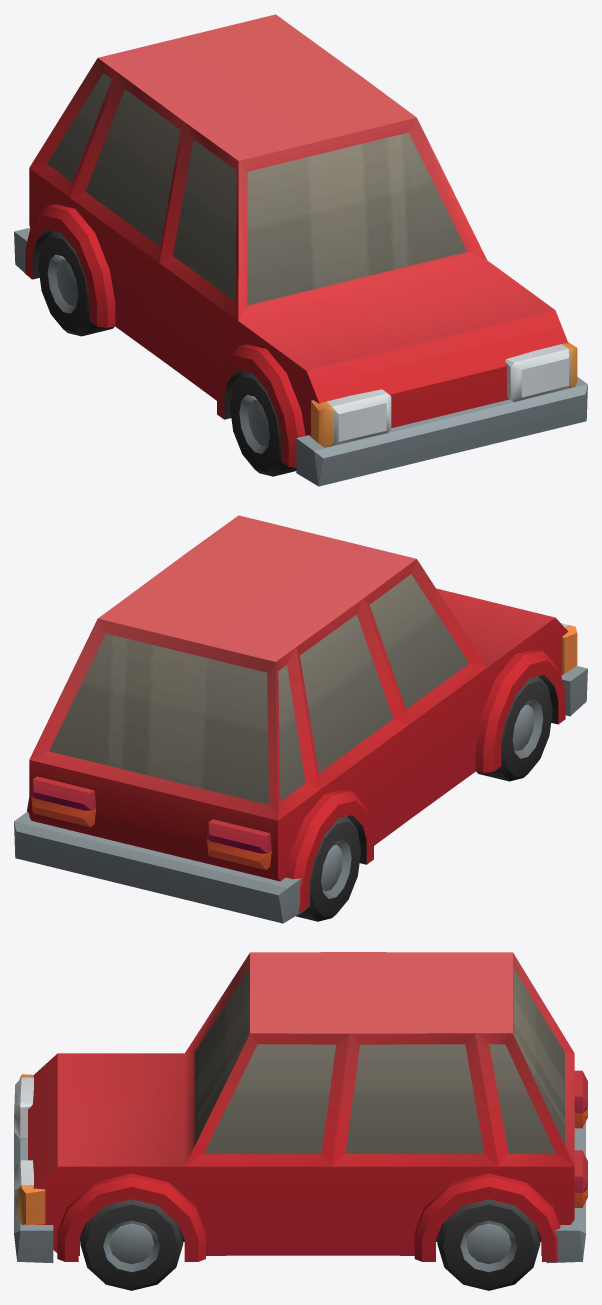
Rendered from compact.glb.
3 renders of one model, top to bottom at view 1: azimuth 30°, elevation 25°; view 2: azimuth 150°, elevation 25°; view 3: azimuth 270°, elevation 25°, orthographic. The views are drawn at different scales.
Visible parts, largest first — view 1: car_hatchback, car_hatchback_wheel_rear_right, car_hatchback_wheel_front_right; view 2: car_hatchback, car_hatchback_wheel_front_right, car_hatchback_wheel_rear_right; view 3: car_hatchback, car_hatchback_wheel_rear_left, car_hatchback_wheel_front_left.
Part boxes in pixels (x1,y1,x2,y2): car_hatchback: (14,14,587,486); car_hatchback_wheel_rear_right: (38,231,114,336); car_hatchback_wheel_front_right: (230,371,296,476); car_hatchback: (14,515,587,923); car_hatchback_wheel_front_right: (476,676,552,781); car_hatchback_wheel_rear_right: (296,816,361,921); car_hatchback: (14,952,587,1263); car_hatchback_wheel_rear_left: (437,1199,540,1290); car_hatchback_wheel_front_left: (80,1199,183,1290).
Bounding box in the file's own units: 0.4189 × 0.3688 × 0.8061.
1 material, 1 textured.
